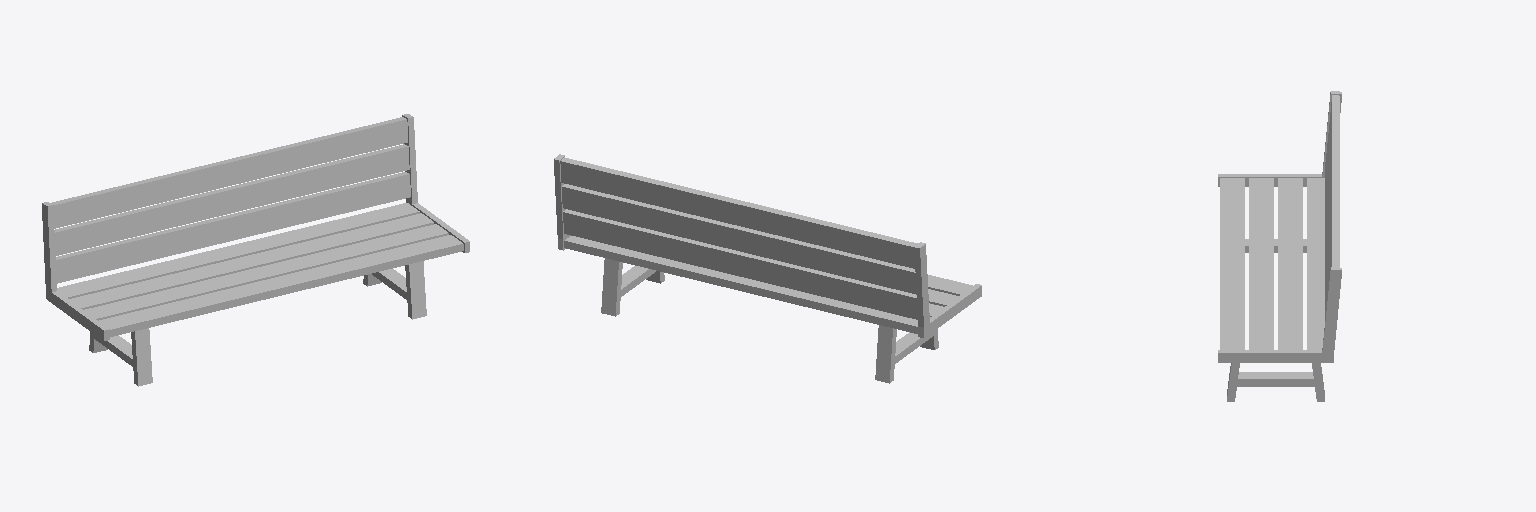
File: SPW_Urban_Props_Bench_03.obj
The picture shows the model from 3 angles: view 1: azimuth 30°, elevation 25°; view 2: azimuth 150°, elevation 25°; view 3: azimuth 270°, elevation 25°; orthographic projection.
Visible parts, largest first — view 1: SPW_Urban_Props_Bench_03; view 2: SPW_Urban_Props_Bench_03; view 3: SPW_Urban_Props_Bench_03.
Part boxes in pixels (x1,y1,x2,y2): SPW_Urban_Props_Bench_03: (42,114,469,386); SPW_Urban_Props_Bench_03: (554,154,981,383); SPW_Urban_Props_Bench_03: (1218,91,1341,401).
Size of the model in its own units: 100 by 39.54 by 29.48.